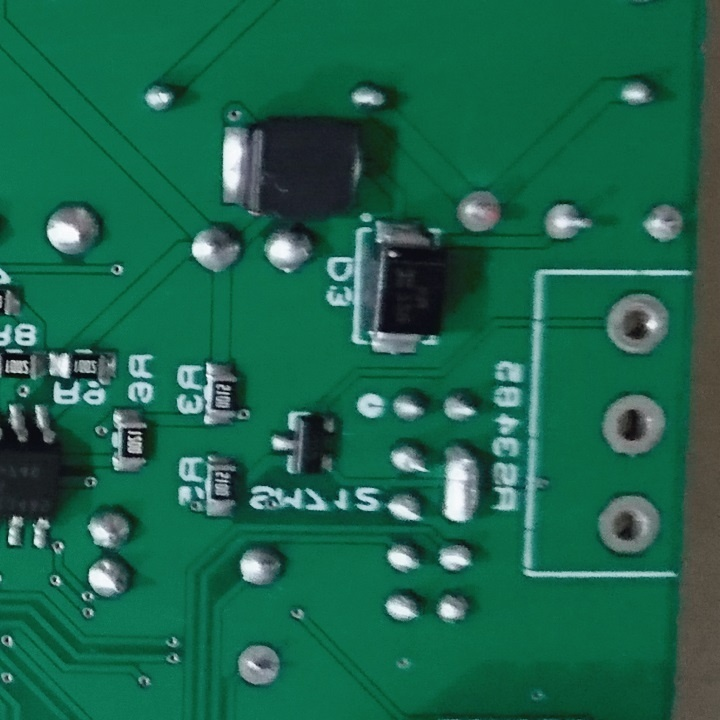F: (601, 388, 669, 460), (596, 491, 665, 561), (604, 291, 670, 360), (233, 641, 284, 691), (454, 187, 502, 235), (541, 200, 593, 243), (639, 200, 685, 245)
P: (440, 438, 484, 530)
